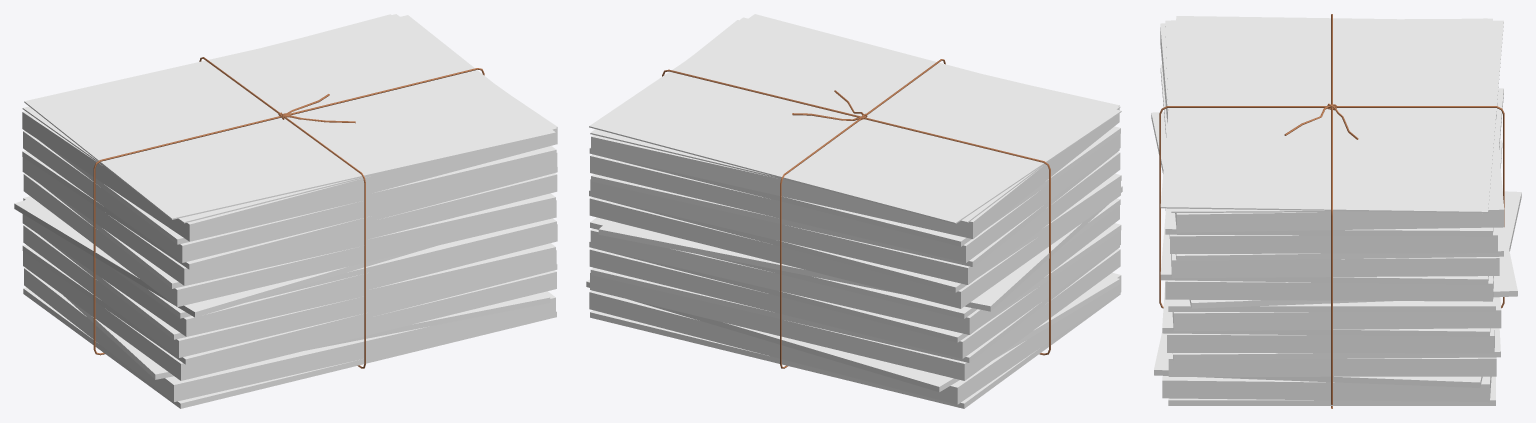
Rendered from PaperStack_02.glb.
3 views of the same model, side by side, from view 1: azimuth 30°, elevation 25°; view 2: azimuth 150°, elevation 25°; view 3: azimuth 270°, elevation 25° (orthographic). The views are drawn at different scales.
Parts seen in each view (by area): view 1: Mesh_PaperStack_02; view 2: Mesh_PaperStack_02; view 3: Mesh_PaperStack_02.
Part boxes in pixels (x1,y1,x2,y2): Mesh_PaperStack_02: [14, 14, 557, 408]; Mesh_PaperStack_02: [586, 14, 1122, 408]; Mesh_PaperStack_02: [1151, 14, 1521, 408].
Bounding box in the file's own units: 0.3123 × 0.1455 × 0.2373.
Materials: 1 (1 with a texture image).
